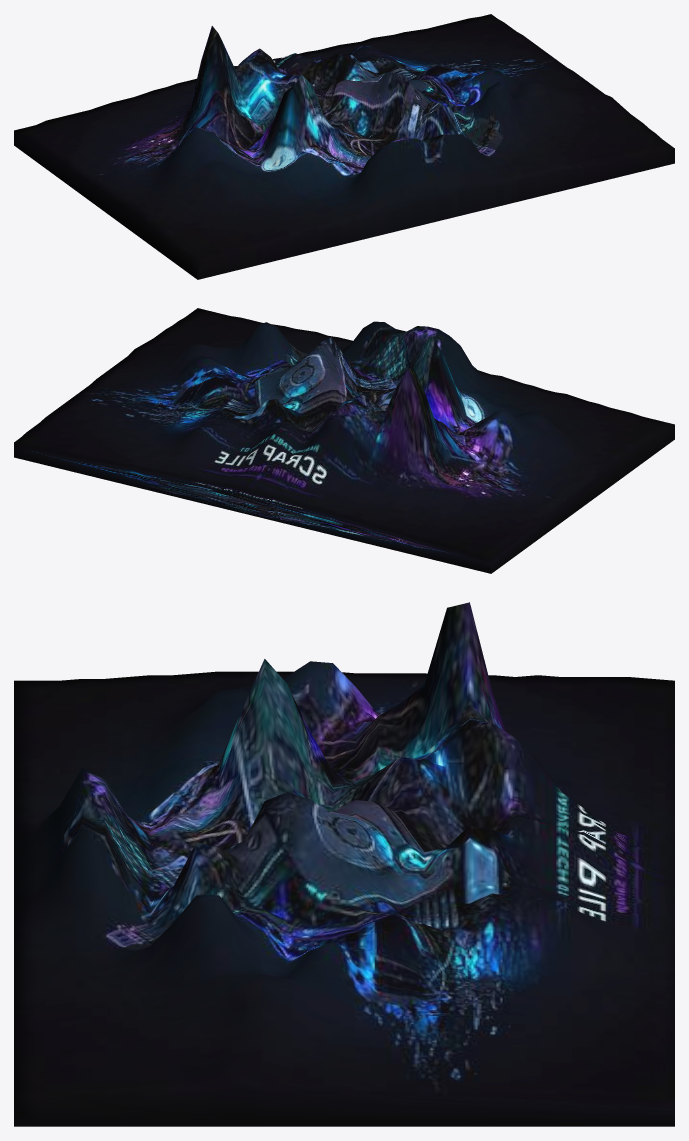
Rendered from TECH_01_Scrap_Pile.glb.
3 renders of one model, top to bottom at view 1: azimuth 30°, elevation 25°; view 2: azimuth 150°, elevation 25°; view 3: azimuth 270°, elevation 25°, orthographic. The views are drawn at different scales.
Parts seen in each view (by area): view 1: TECH_01_Scrap_Pile; view 2: TECH_01_Scrap_Pile; view 3: TECH_01_Scrap_Pile.
Part boxes in pixels (bbox=[...]): TECH_01_Scrap_Pile: bbox=[14, 14, 674, 279]; TECH_01_Scrap_Pile: bbox=[14, 308, 674, 573]; TECH_01_Scrap_Pile: bbox=[14, 602, 674, 1126].
Bounding box in the file's own units: 2 × 0.51 × 1.33.
Materials: 1 (1 with a texture image).
